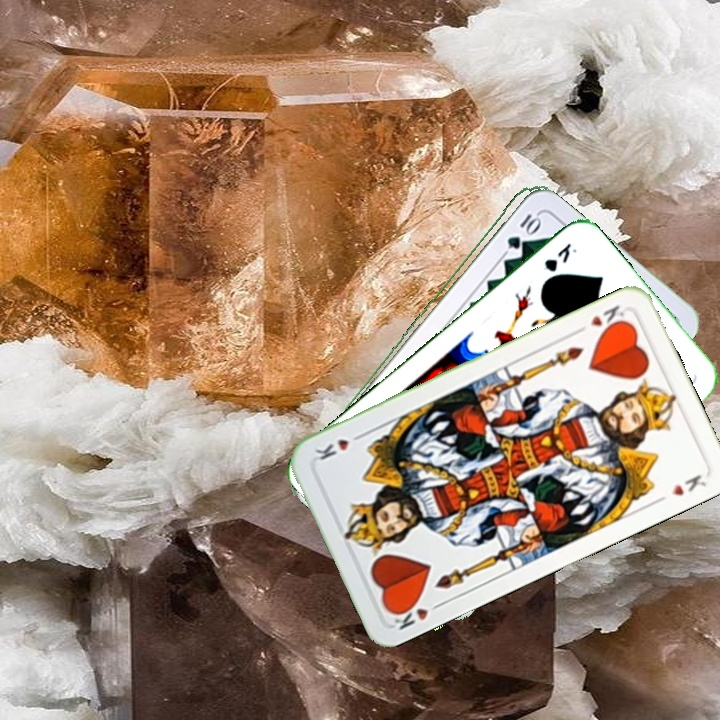G10: (502, 210, 541, 252)
GK: (538, 238, 580, 275)
HK: (386, 596, 446, 633), (586, 301, 629, 335)
